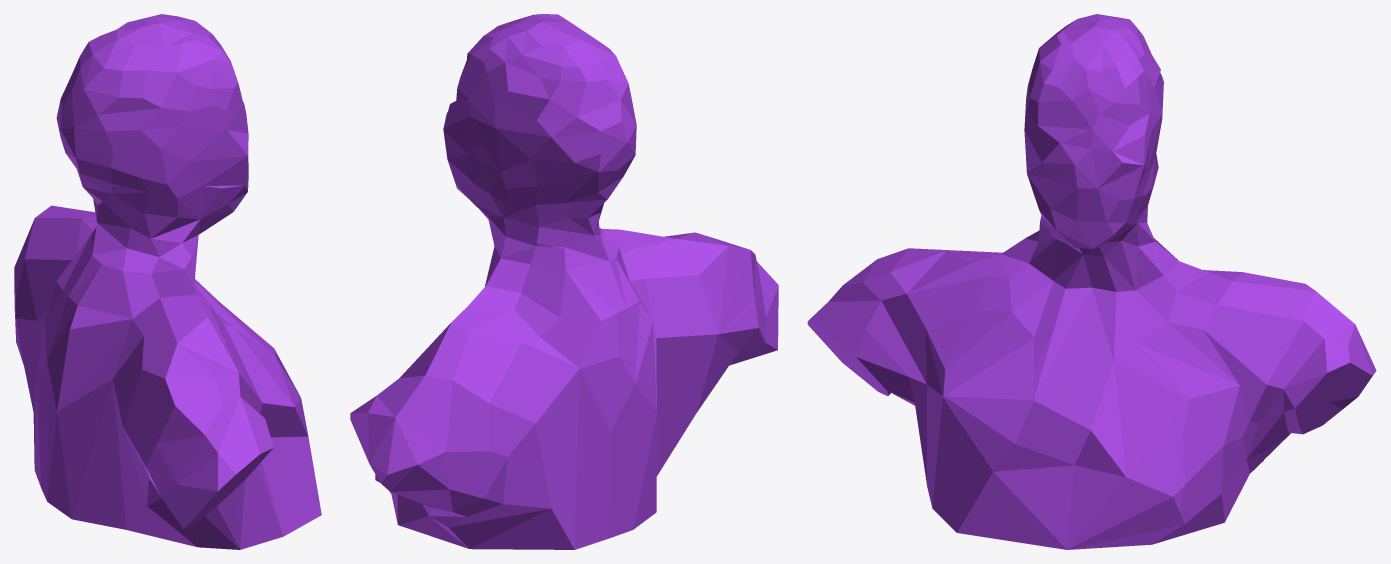
Rendered from Statue.007_chunks.fbx.
The picture shows the model from 3 angles, left to right: view 1: azimuth 30°, elevation 25°; view 2: azimuth 150°, elevation 25°; view 3: azimuth 270°, elevation 25°; orthographic projection. The views are drawn at different scales.
Visible parts, largest first — view 1: Statue.007_1, Statue.007_2, Statue.007_0, Statue.007_3; view 2: Statue.007_0, Statue.007_2, Statue.007_1, Statue.007_3; view 3: Statue.007_3, Statue.007_1, Statue.007_0, Statue.007_2.
Part boxes in pixels (x1,y1,x2,y2): Statue.007_1: [60, 212, 321, 549]; Statue.007_2: [56, 14, 248, 250]; Statue.007_0: [14, 205, 96, 518]; Statue.007_3: [195, 113, 302, 407]; Statue.007_0: [350, 235, 656, 549]; Statue.007_2: [443, 14, 636, 256]; Statue.007_1: [598, 225, 778, 476]; Statue.007_3: [443, 112, 502, 260]; Statue.007_3: [1008, 156, 1184, 549]; Statue.007_1: [807, 216, 1082, 543]; Statue.007_0: [1127, 222, 1376, 544]; Statue.007_2: [1024, 14, 1163, 223].
Size of the model in its own units: 187 by 343 by 383.
